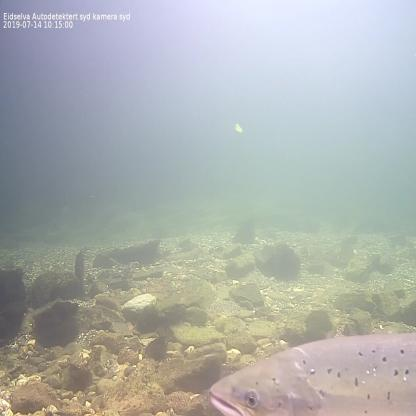salmon: (204, 324, 416, 416)
